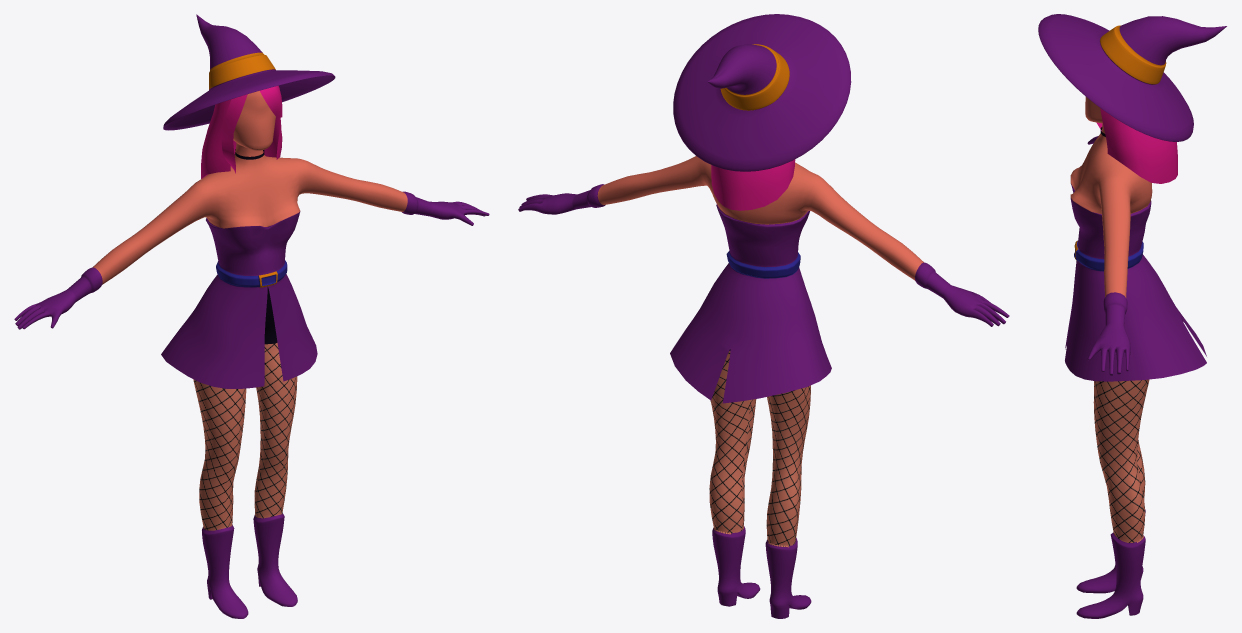
The model's file is witchforanimation2.fbx.
3 views of the same model, side by side, from view 1: azimuth 30°, elevation 25°; view 2: azimuth 150°, elevation 25°; view 3: azimuth 270°, elevation 25° (orthographic). The views are drawn at different scales.
Parts seen in each view (by area): view 1: Box001, Cone001, Object001, Object002; view 2: Box001, Cone001, Object001; view 3: Box001, Cone001, Object001.
Part boxes in pixels (x1,y1,x2,y2): Box001: (14, 91, 489, 618); Cone001: (163, 14, 335, 130); Object001: (201, 99, 282, 178); Object002: (221, 94, 247, 173); Box001: (518, 156, 1009, 618); Cone001: (673, 14, 851, 171); Object001: (711, 159, 795, 210); Box001: (1065, 97, 1206, 618); Cone001: (1038, 14, 1226, 141); Object001: (1100, 108, 1177, 183).
Size of the model in its own units: 67.55 by 76.35 by 22.5.
7 materials, 1 textured.
